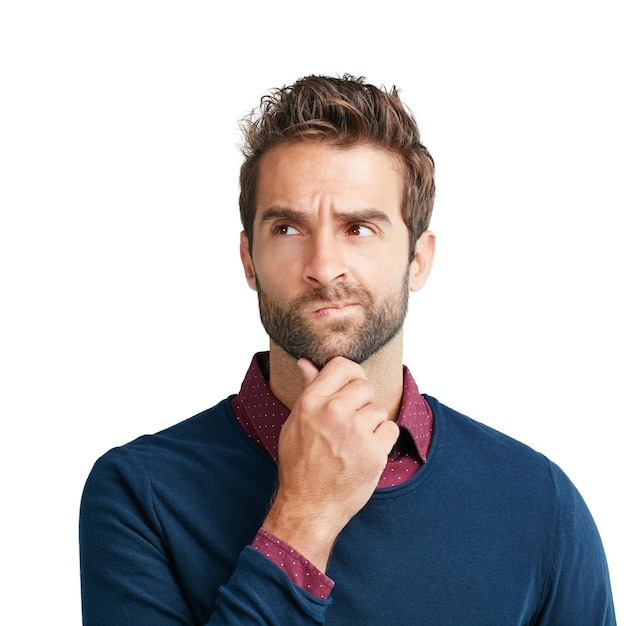young: (222, 67, 428, 363)
